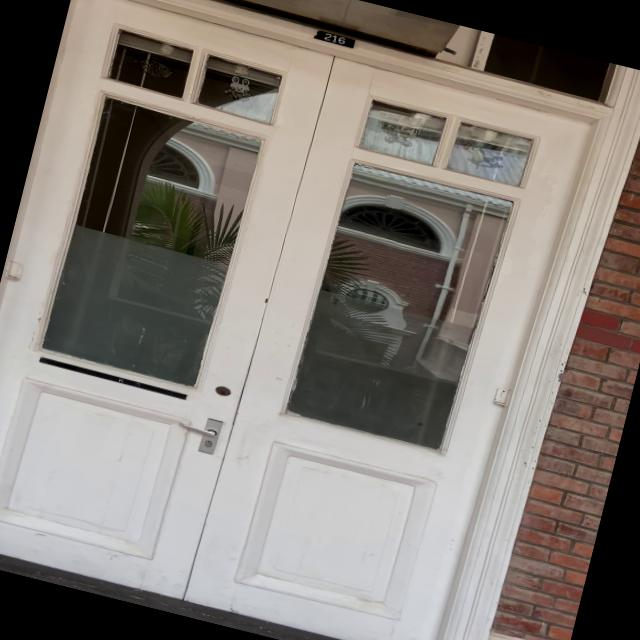room216: (310, 25, 362, 52)
